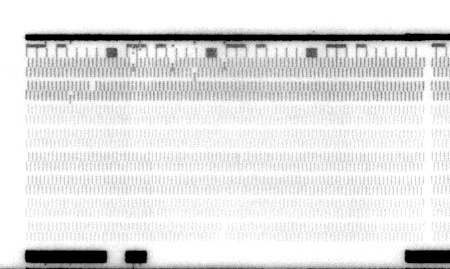Broken hole: (88, 79, 99, 92)
Oblique printing: (233, 151, 247, 165), (64, 91, 77, 106), (219, 57, 231, 73), (166, 56, 177, 73), (127, 58, 139, 72), (190, 67, 201, 82)
